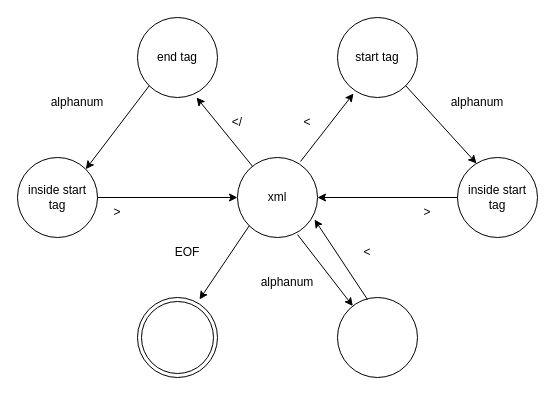
Some shapes in this 555 by 395 pixel diagram are drawn without their labels. The shapes that lost their labels are listed below. From the top down, each one's box as (x1, y1, x2, y2) in pixels, then its label:
(136, 296, 218, 378): end
(336, 296, 418, 378): text
